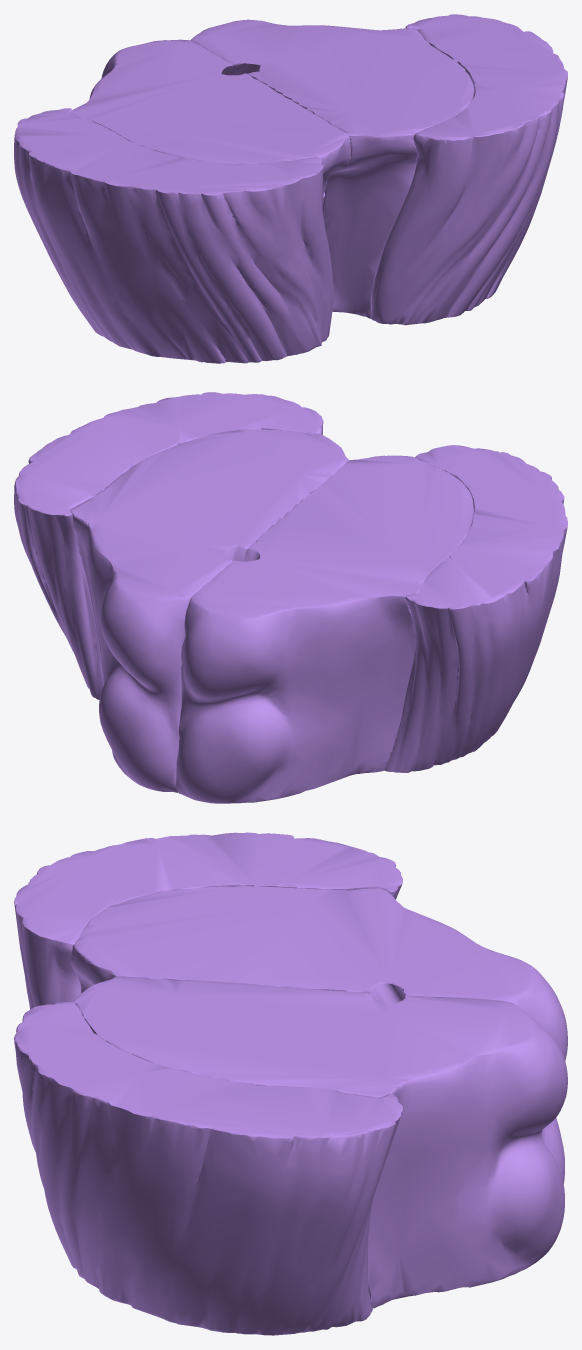
Rendered from midbrain.glb.
The picture shows the model from 3 angles, top to bottom: view 1: azimuth 30°, elevation 25°; view 2: azimuth 150°, elevation 25°; view 3: azimuth 270°, elevation 25°; orthographic projection. The views are drawn at different scales.
Parts seen in each view (by area): view 1: grp1; view 2: grp1; view 3: grp1.
Boxes of the visible parts, x1,y1,x2,y2 form: grp1: [14, 14, 567, 363]; grp1: [14, 392, 567, 803]; grp1: [14, 832, 567, 1335].
Bounding box in the file's own units: 0.0425 × 0.0173 × 0.0327.
